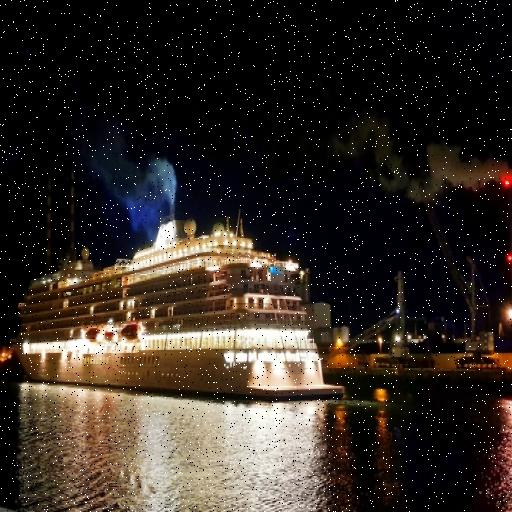cruises: (5, 200, 351, 416)
